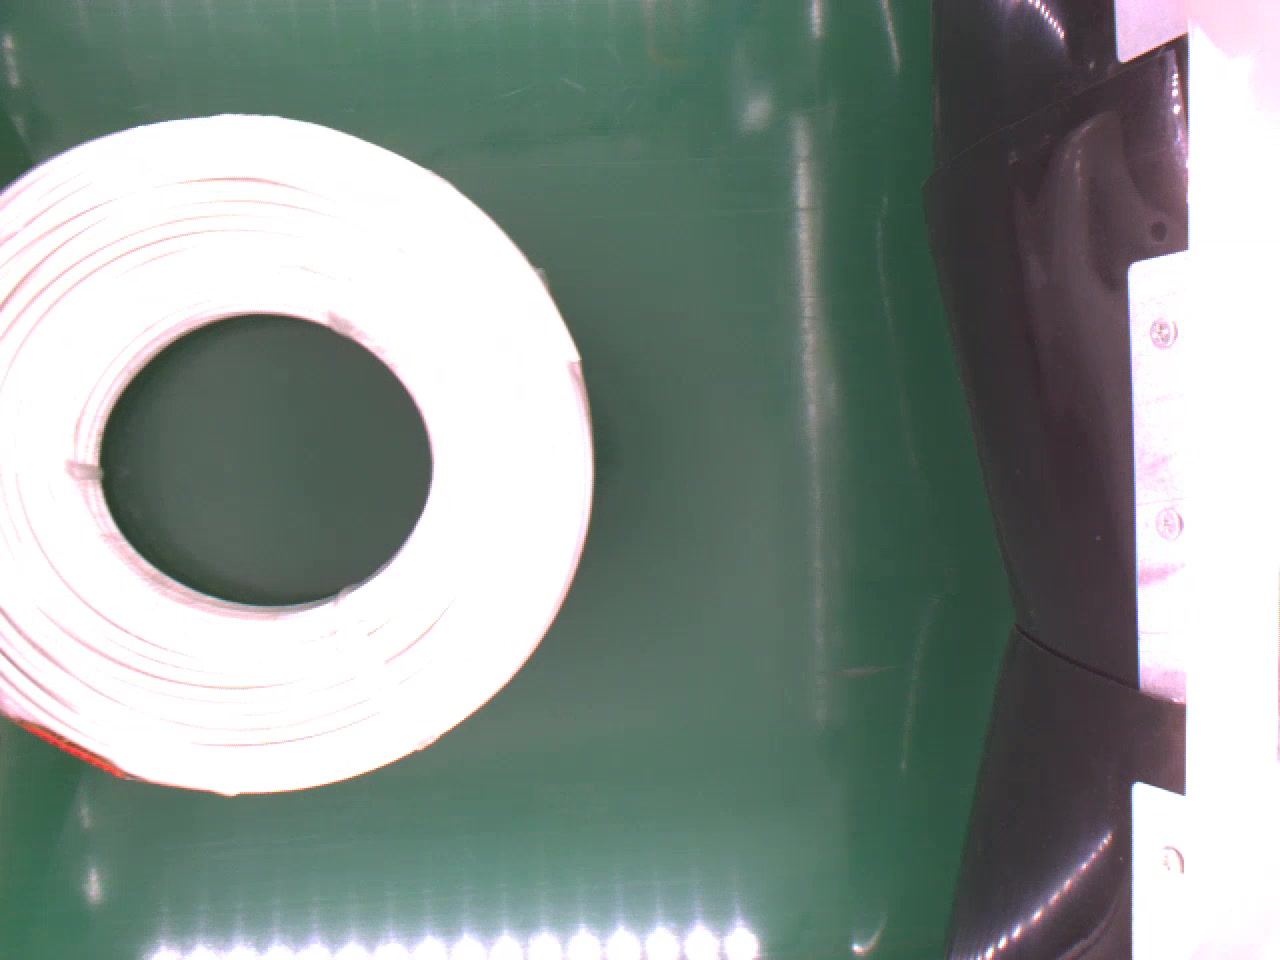white: (0, 107, 599, 794)
